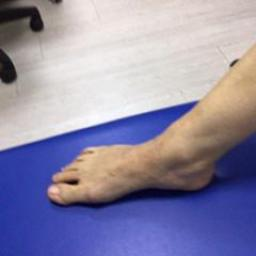Medial View -Right Foot-: (41, 102, 240, 212)
